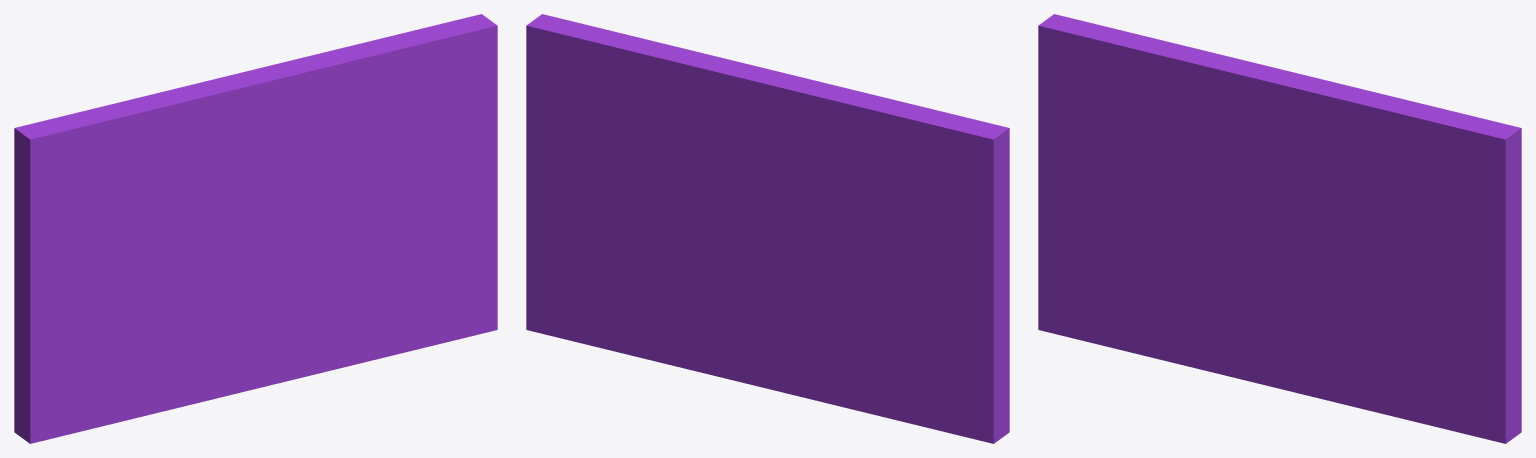
File: Barrier_33_chunks.fbx
3 renders of one model, left to right at view 1: azimuth 30°, elevation 25°; view 2: azimuth 150°, elevation 25°; view 3: azimuth 330°, elevation 25°, orthographic.
Parts seen in each view (by area): view 1: Barrier_33_0, Barrier_33_2, Barrier_33_4, Barrier_33_5, Barrier_33_1, Barrier_33_8, Barrier_33_9, Barrier_33_7; view 2: Barrier_33_0, Barrier_33_1, Barrier_33_4, Barrier_33_5, Barrier_33_9, Barrier_33_8, Barrier_33_3, Barrier_33_6, Barrier_33_2; view 3: Barrier_33_0, Barrier_33_2, Barrier_33_4, Barrier_33_5, Barrier_33_1, Barrier_33_8, Barrier_33_9, Barrier_33_7.
Boxes of the visible parts, x1,y1,x2,y2 form: Barrier_33_0: (14,71,254,443); Barrier_33_2: (252,23,497,257); Barrier_33_4: (325,252,497,366); Barrier_33_5: (113,242,354,378); Barrier_33_1: (247,14,497,272); Barrier_33_8: (50,345,228,438); Barrier_33_9: (233,316,347,379); Barrier_33_7: (170,343,293,409); Barrier_33_0: (760,74,1009,443); Barrier_33_1: (526,16,766,291); Barrier_33_4: (526,270,679,362); Barrier_33_5: (715,243,880,352); Barrier_33_9: (661,306,797,383); Barrier_33_8: (795,328,969,437); Barrier_33_3: (632,253,719,319); Barrier_33_6: (749,353,888,418); Barrier_33_2: (539,14,786,79); Barrier_33_0: (1038,14,1287,334); Barrier_33_2: (1260,74,1509,334); Barrier_33_4: (1334,299,1521,443); Barrier_33_5: (1121,238,1362,346); Barrier_33_1: (1287,71,1521,393); Barrier_33_8: (1058,305,1236,363); Barrier_33_9: (1242,328,1355,407); Barrier_33_7: (1178,327,1300,393).
Size of the model in its own units: 462 by 288 by 27.2.
